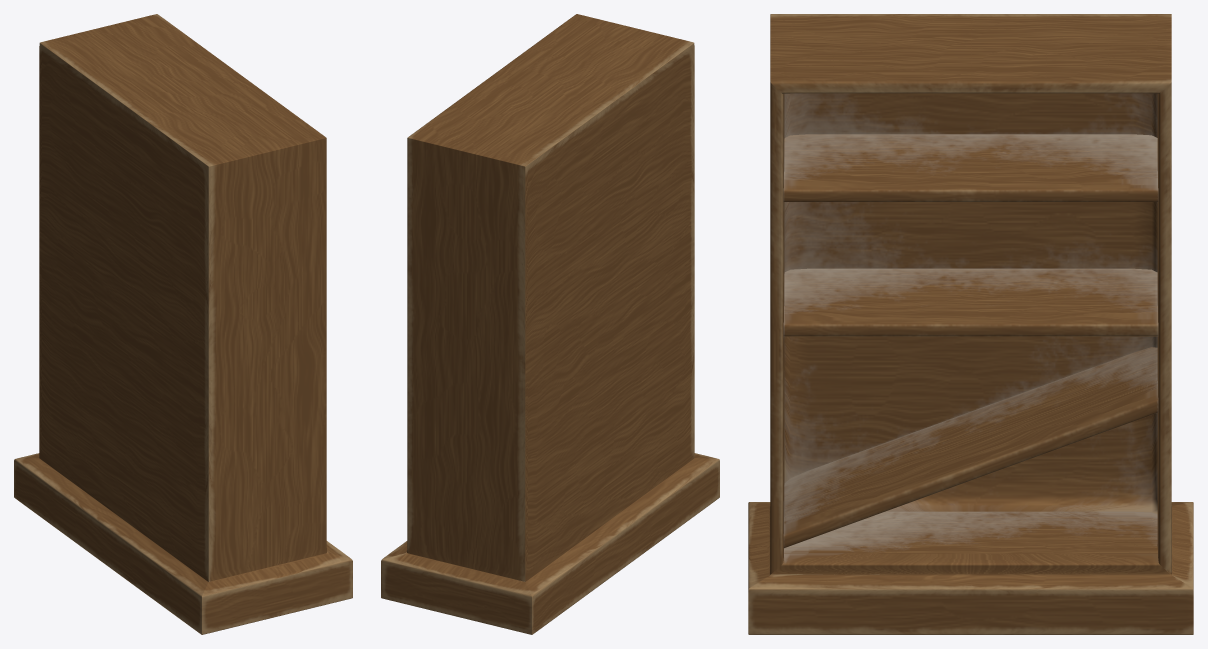
File: PR_Shelf_Textured.fbx
3 renders of one model, left to right at view 1: azimuth 30°, elevation 25°; view 2: azimuth 150°, elevation 25°; view 3: azimuth 270°, elevation 25°, orthographic. The views are drawn at different scales.
Visible parts, largest first — view 1: Bookshelf; view 2: Bookshelf; view 3: Bookshelf, Shelf_03, Shelf_02, Shelf_01.
Boxes of the visible parts, left/top/right/bottom form: Bookshelf: left=14, top=14, right=352, bottom=634; Bookshelf: left=381, top=14, right=719, bottom=634; Bookshelf: left=748, top=14, right=1193, bottom=634; Shelf_03: left=783, top=347, right=1158, bottom=548; Shelf_02: left=783, top=268, right=1158, bottom=336; Shelf_01: left=783, top=134, right=1158, bottom=201.
Size of the model in its own units: 13.73 by 40 by 29.5.
Materials: 1 (1 with a texture image).
